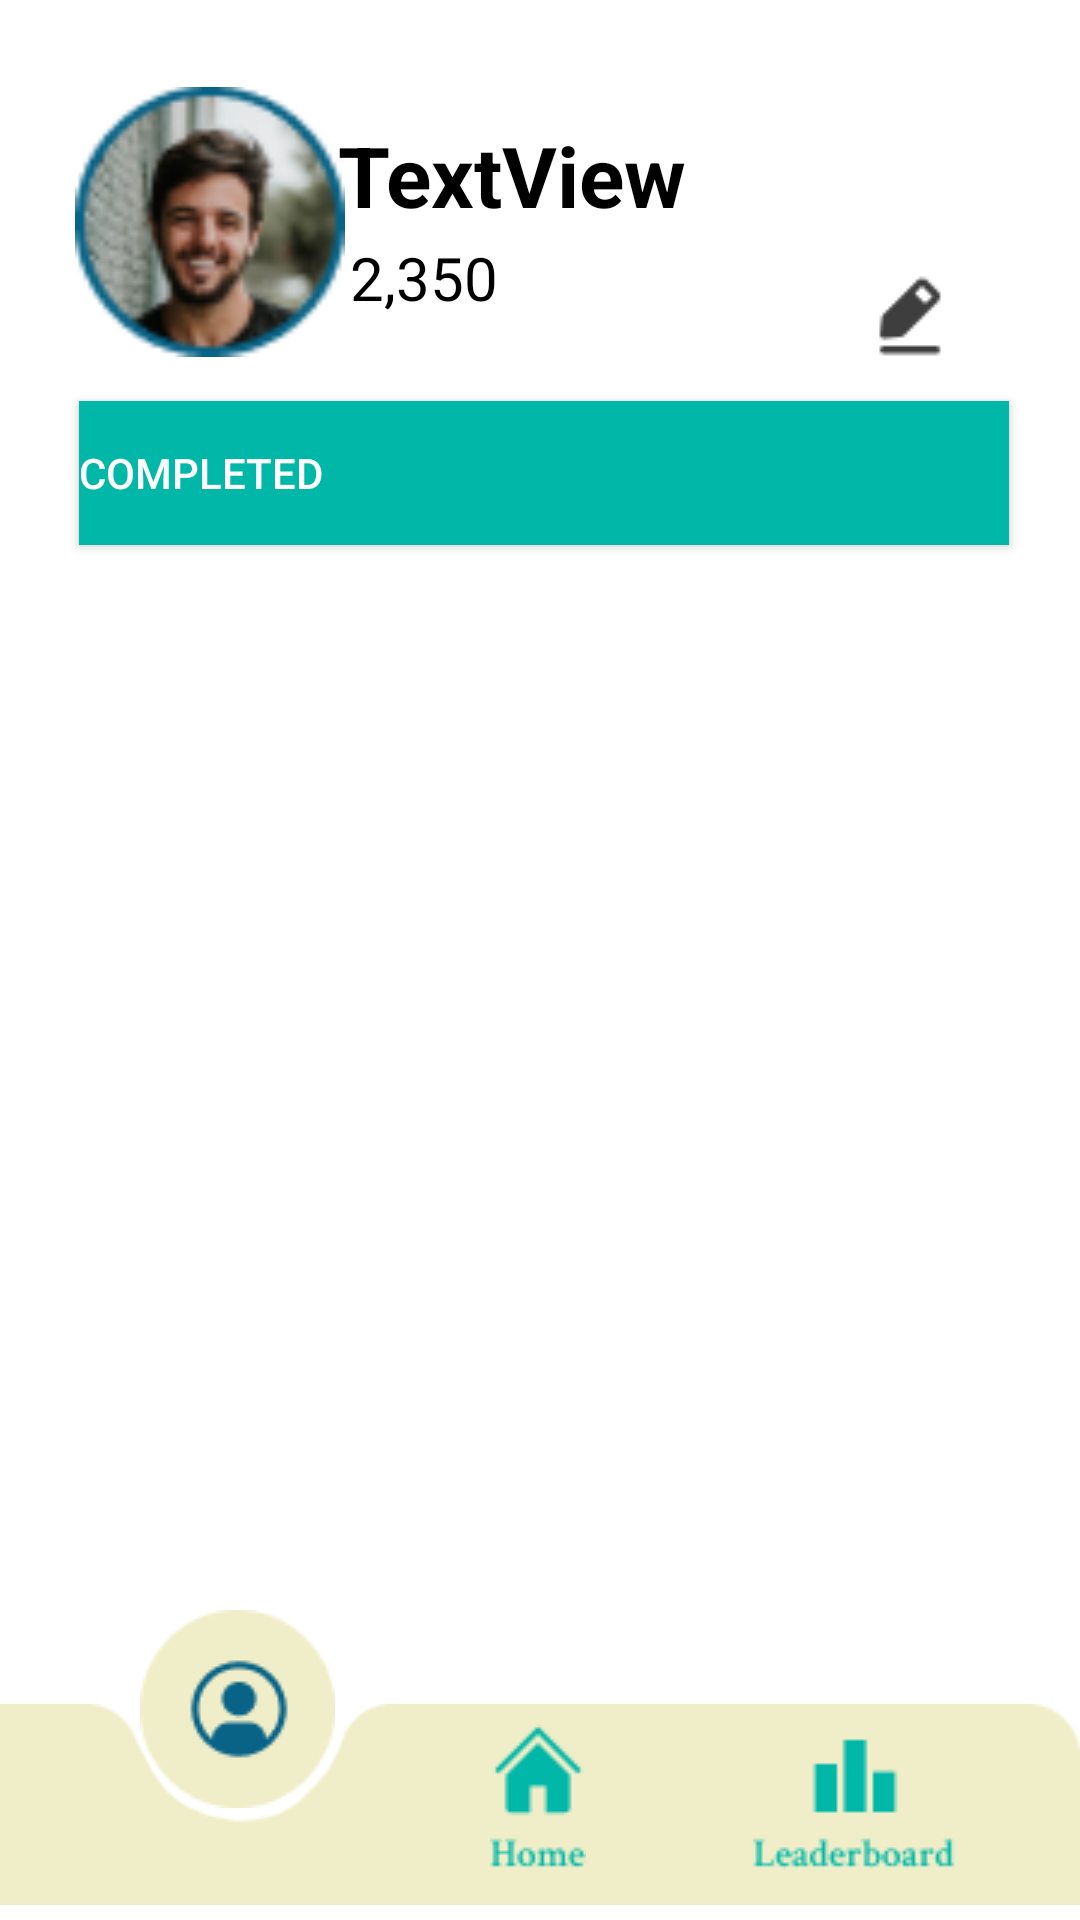

Screen size 1080*1920. Icon name, then its center in pixels as (x,y):
editicon: (910,316)
profileblue: (237,1709)
